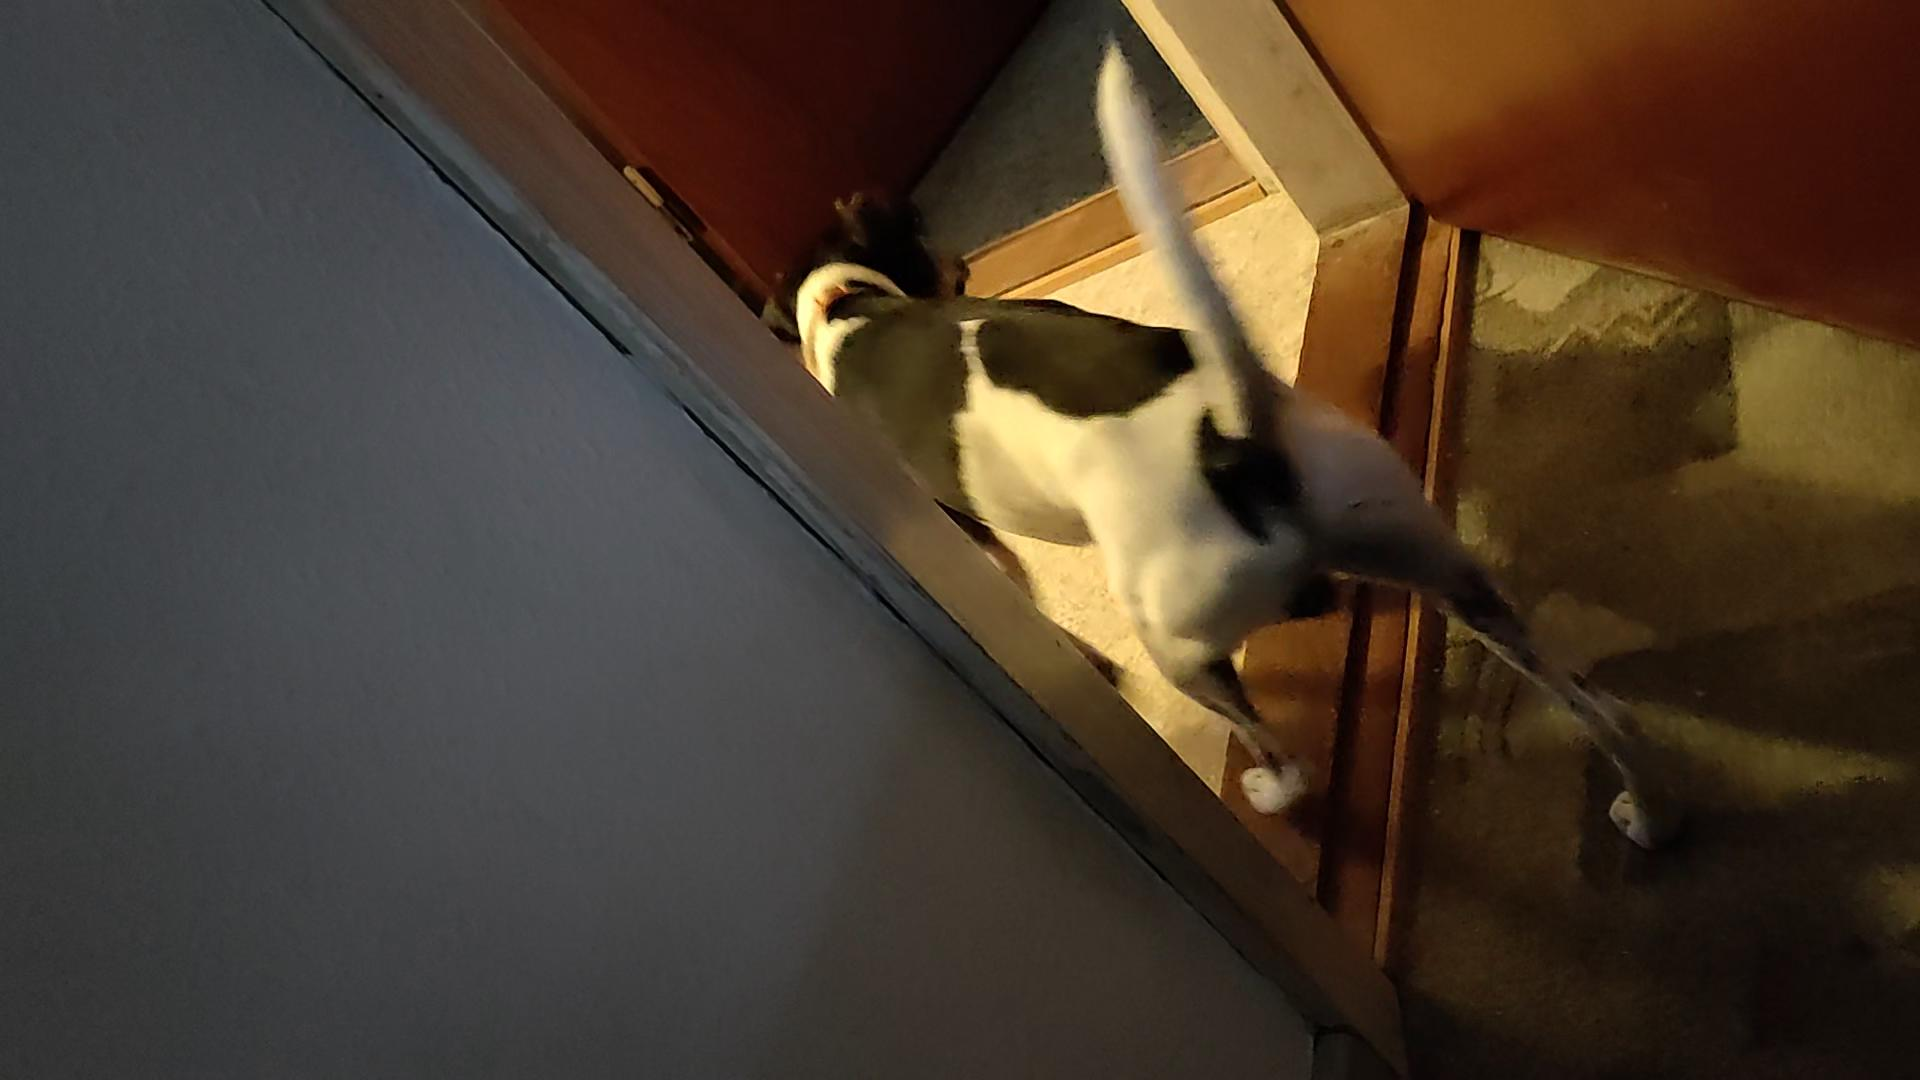Dog: (753, 24, 1683, 852)
